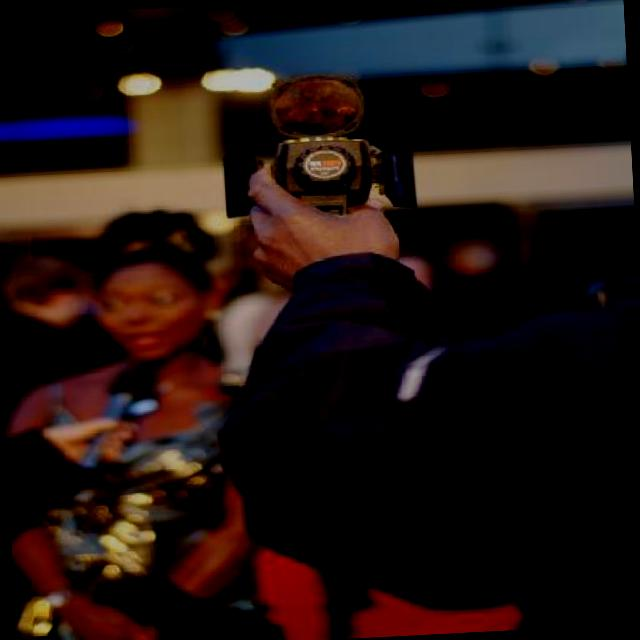Person: (182, 118, 620, 640), (0, 242, 263, 640), (0, 251, 111, 418), (7, 416, 144, 540)
